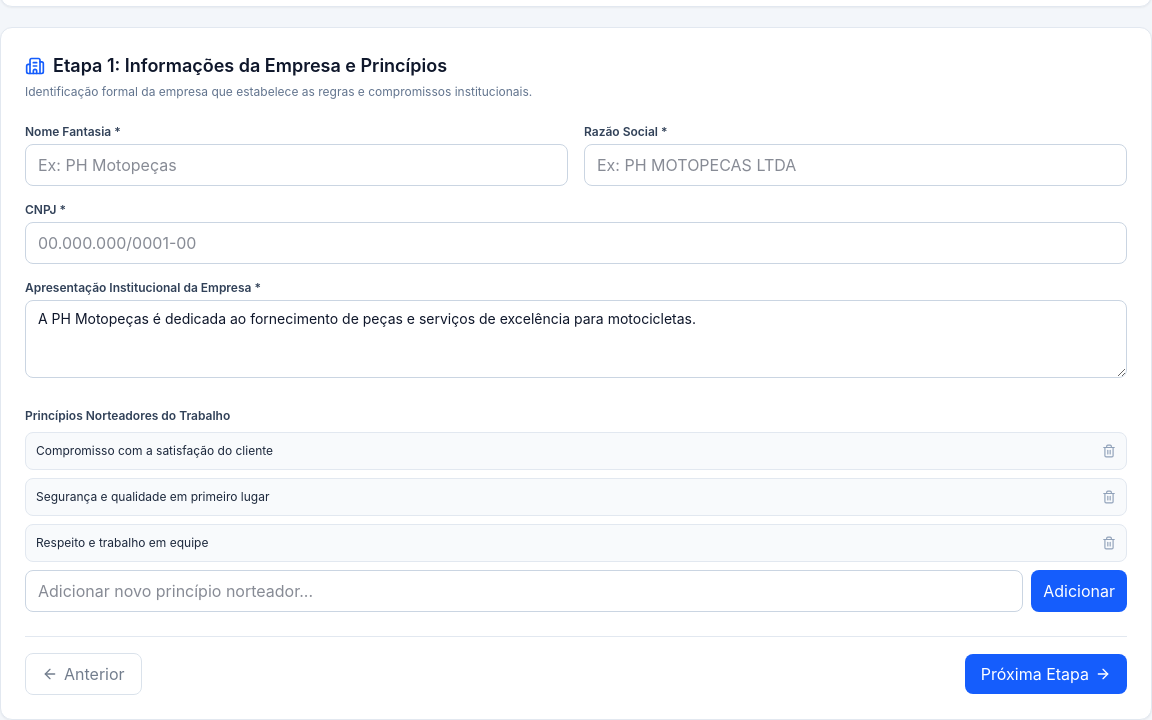
Scenario: RegulationsWizardPage › navigates from step 1 to step 2 when clicking next
(page scrolled)
Expected: the heading "Etapa 1: Informações da Empresa e Princípios" is shown, [25,55,447,76]
Click the button "Próxima Etapa".
click(1046, 674)  # box [965,654,1127,694]
(page scrolled)
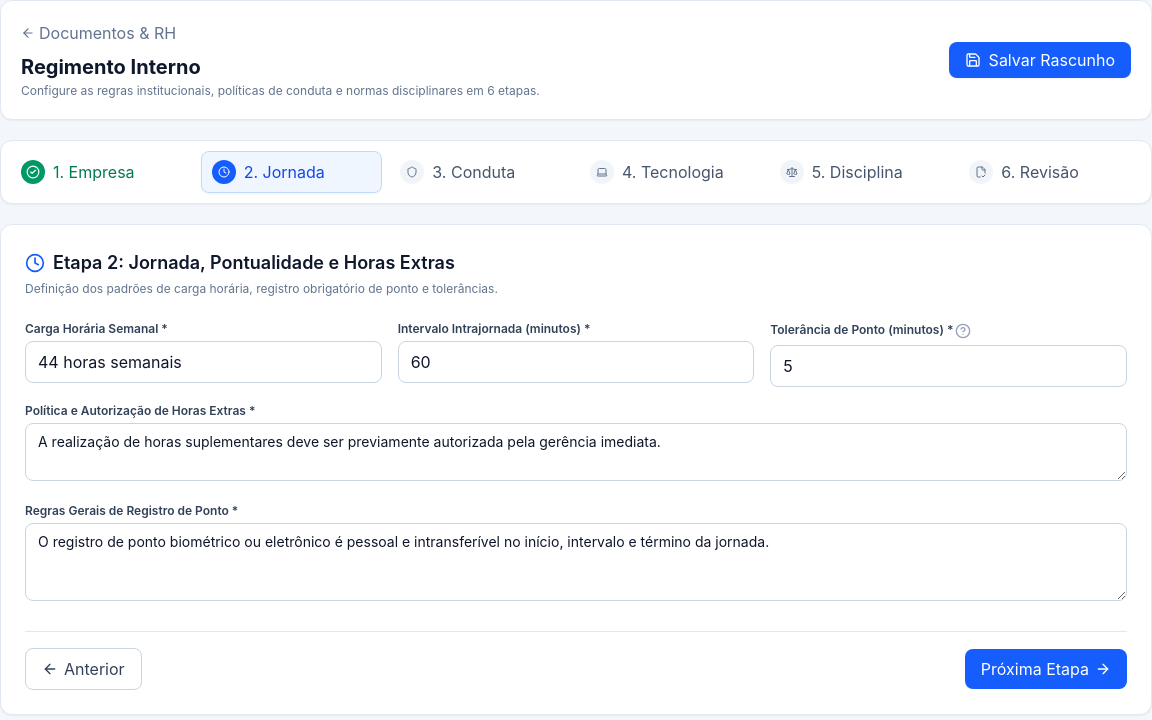
Result: the heading "Etapa 2: Jornada, Pontualidade e Horas Extras" is shown at [25,252,455,273]
